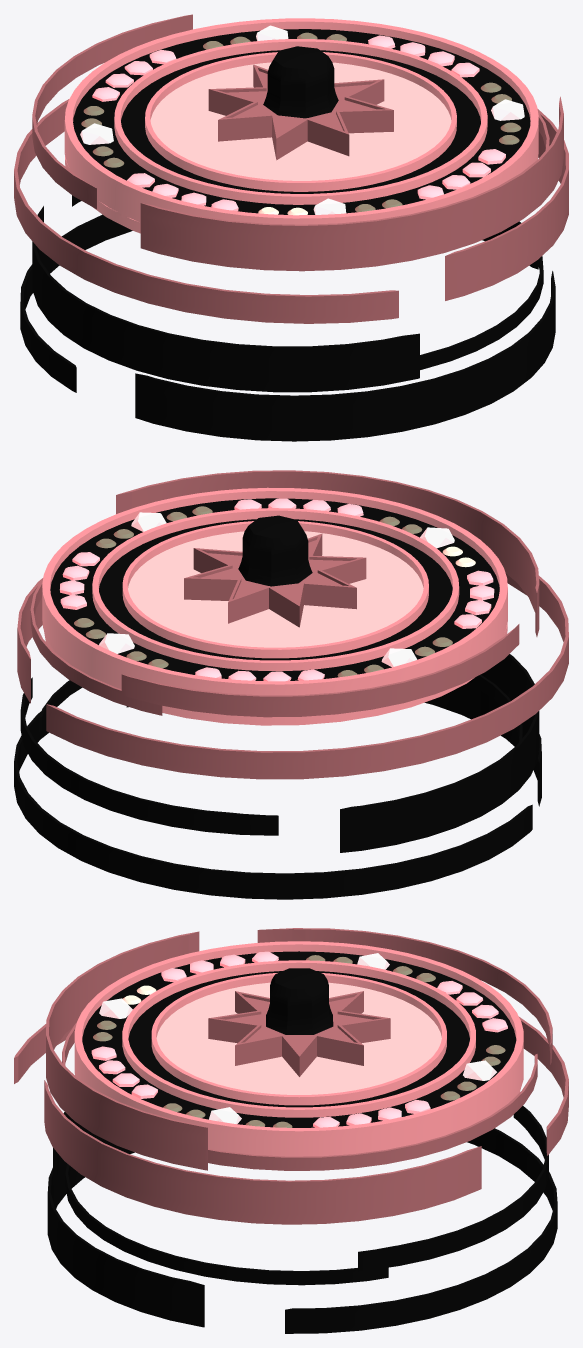
Rendered from pachinko-stage.glb.
The picture shows the model from 3 angles, top to bottom: view 1: azimuth 30°, elevation 25°; view 2: azimuth 150°, elevation 25°; view 3: azimuth 270°, elevation 25°; orthographic projection. The views are drawn at different scales.
Visible parts, largest first — view 1: Boolean.3, Boolean.9, Boolean.8, Cylinder.001, 바닥, Tube.008, Boolean.2, Tube.006, Boolean, Tube.007, Boolean.4, Boolean.011 (+6 smaller); view 2: Boolean.2, Tube.008, Cylinder.001, 바닥, Boolean.7, Boolean.8, Boolean.3, Tube.006, Boolean.011, Boolean, Tube.007, Boolean.6 (+7 smaller); view 3: Boolean.4, Tube.008, Cylinder.001, 바닥, Boolean.3, Boolean.7, Tube.006, Boolean.9, Boolean, Tube.007, Boolean.010, Boolean.011 (+6 smaller).
Part boxes in pixels (bbox=[...]): Boolean.3: bbox=[140, 96, 563, 271]; Boolean.9: bbox=[135, 271, 555, 441]; Boolean.8: bbox=[32, 206, 419, 392]; Cylinder.001: bbox=[73, 29, 530, 214]; 바닥: bbox=[150, 62, 451, 180]; Tube.008: bbox=[64, 18, 538, 224]; Boolean.2: bbox=[14, 99, 398, 323]; Tube.006: bbox=[114, 39, 487, 204]; Boolean: bbox=[208, 64, 393, 160]; Tube.007: bbox=[145, 52, 456, 191]; Boolean.4: bbox=[445, 109, 568, 300]; Boolean.011: bbox=[32, 14, 192, 208]; Boolean.2: bbox=[46, 573, 568, 779]; Tube.008: bbox=[42, 487, 507, 717]; Cylinder.001: bbox=[50, 498, 499, 680]; 바닥: bbox=[128, 531, 423, 647]; Boolean.7: bbox=[14, 711, 532, 899]; Boolean.8: bbox=[340, 654, 539, 852]; Boolean.3: bbox=[116, 470, 539, 636]; Tube.006: bbox=[92, 508, 459, 671]; Boolean.011: bbox=[121, 624, 519, 717]; Boolean: bbox=[184, 533, 366, 627]; Tube.007: bbox=[122, 521, 428, 658]; Boolean.6: bbox=[20, 677, 278, 835]; Boolean.4: bbox=[44, 1080, 481, 1224]; Tube.008: bbox=[74, 941, 523, 1156]; Cylinder.001: bbox=[82, 951, 516, 1127]; 바닥: bbox=[156, 982, 441, 1094]; Boolean.3: bbox=[46, 931, 207, 1170]; Boolean.7: bbox=[285, 1128, 557, 1333]; Tube.006: bbox=[122, 960, 475, 1117]; Boolean.9: bbox=[47, 1137, 204, 1327]; Boolean: bbox=[208, 991, 390, 1076]; Tube.007: bbox=[151, 973, 446, 1105]; Boolean.010: bbox=[62, 1022, 537, 1170]; Boolean.011: bbox=[257, 928, 552, 1064].
Size of the model in its own units: 45.78 by 24.6 by 47.99.
